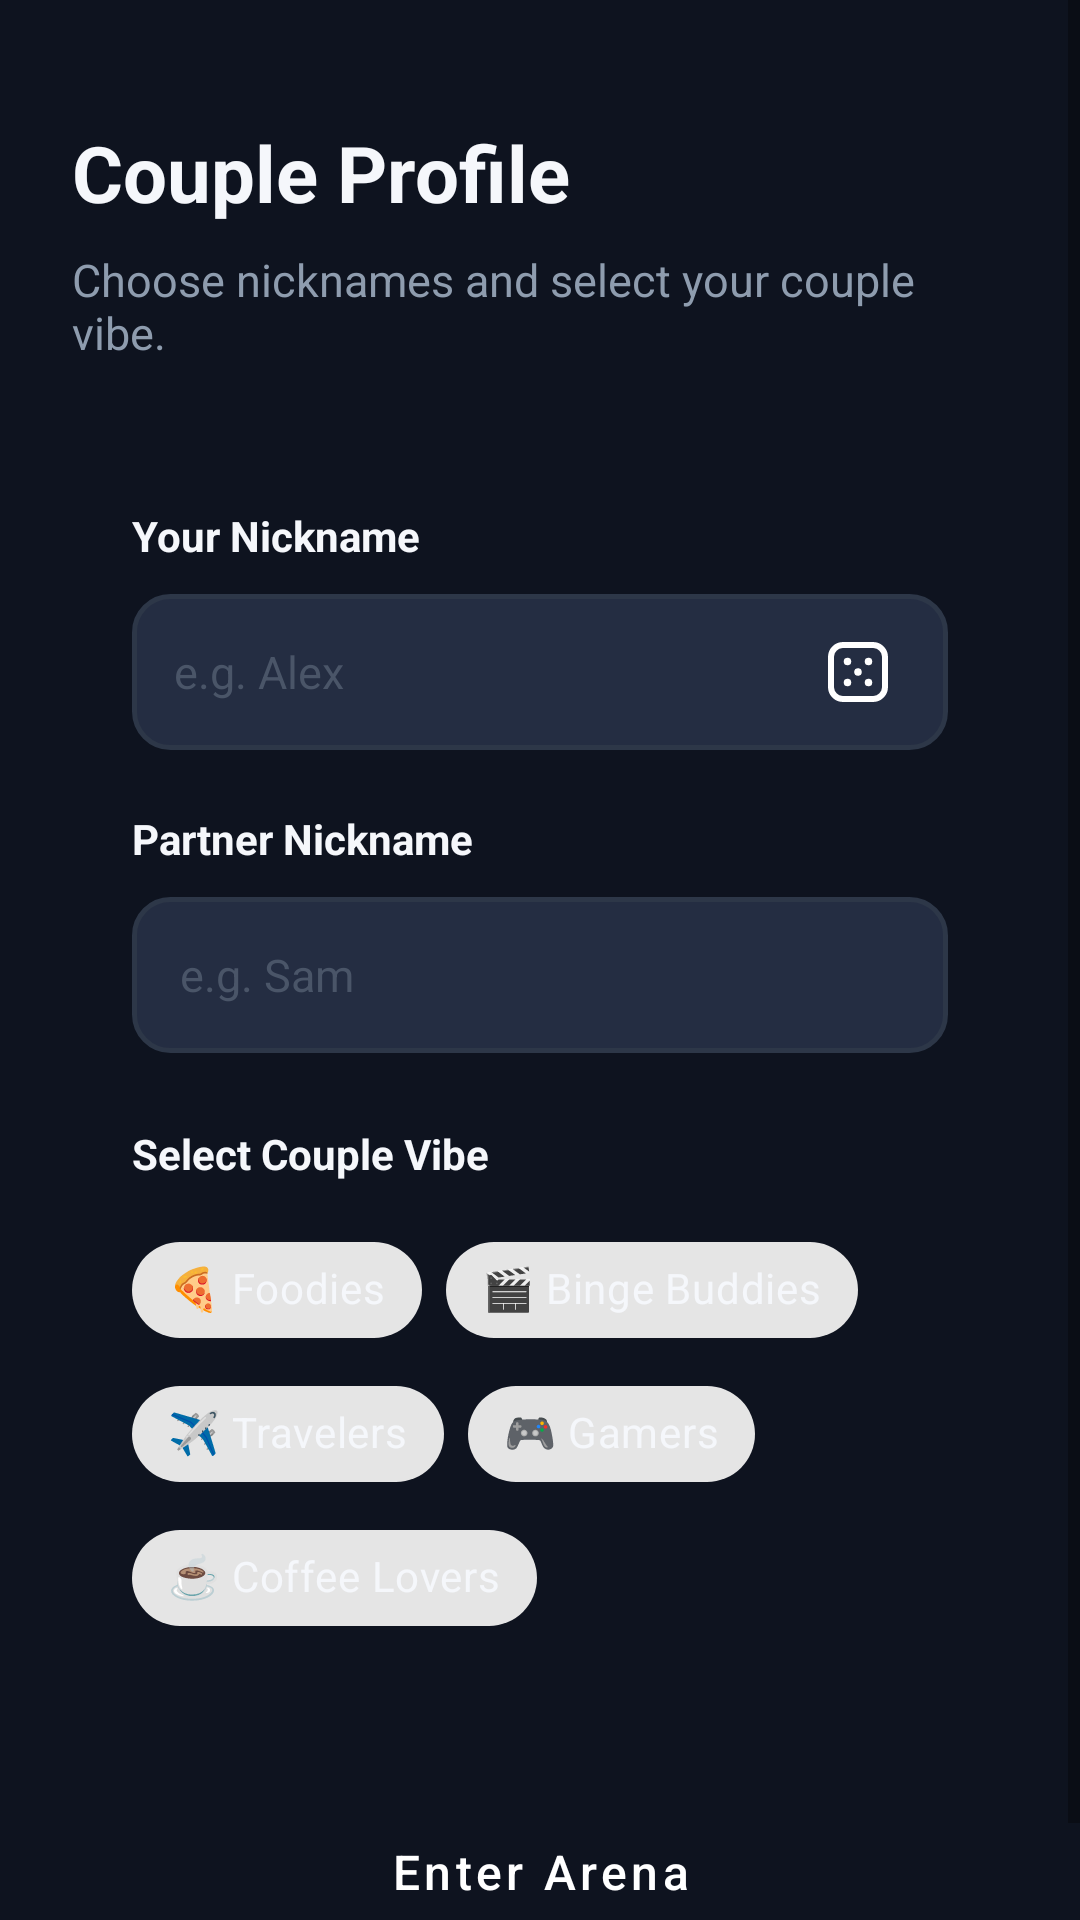

Icon bounding boxes for this 1080w x 1920h phone screenshot, format {"left": x1, "top": y1, "right": x2, "bottom": y2}:
Randomize: {"left": 828, "top": 642, "right": 888, "bottom": 702}
